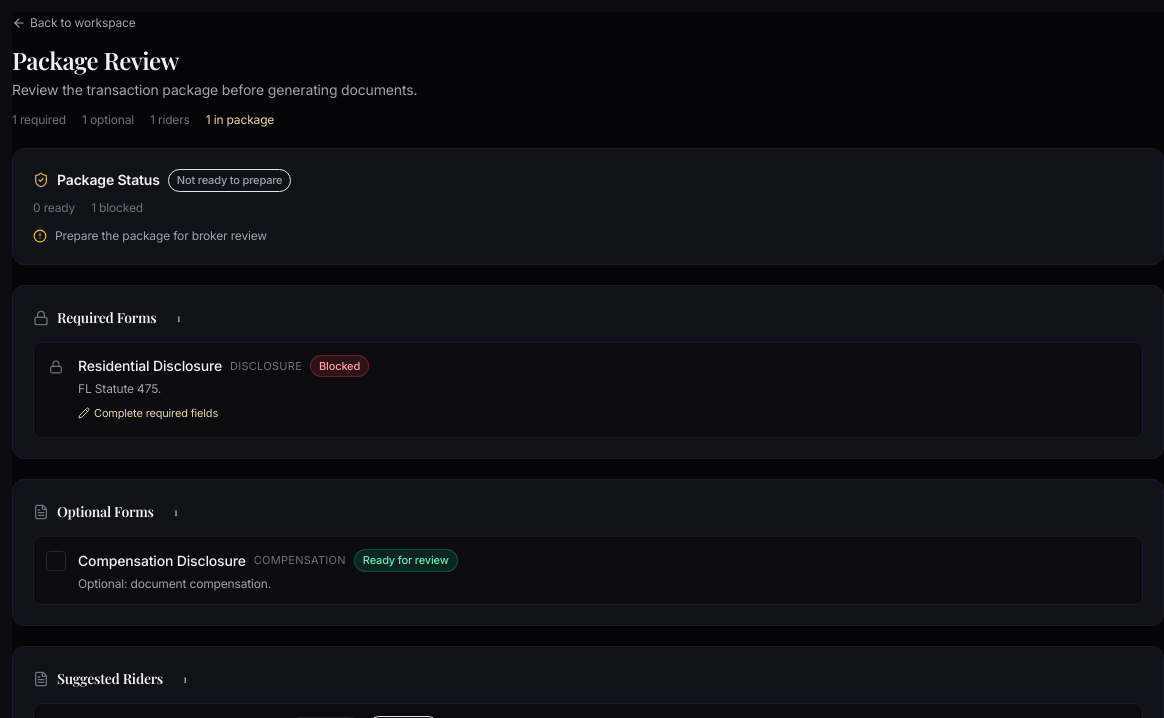
Test case: PackageReview › selecting an optional form updates the in-package count
Expected: the text "1 in package" is shown, 206,112 -> 274,128
Click the checkbox named "Add Compensation Disclosure".
click(56, 561)  # box 46,551 -> 66,571
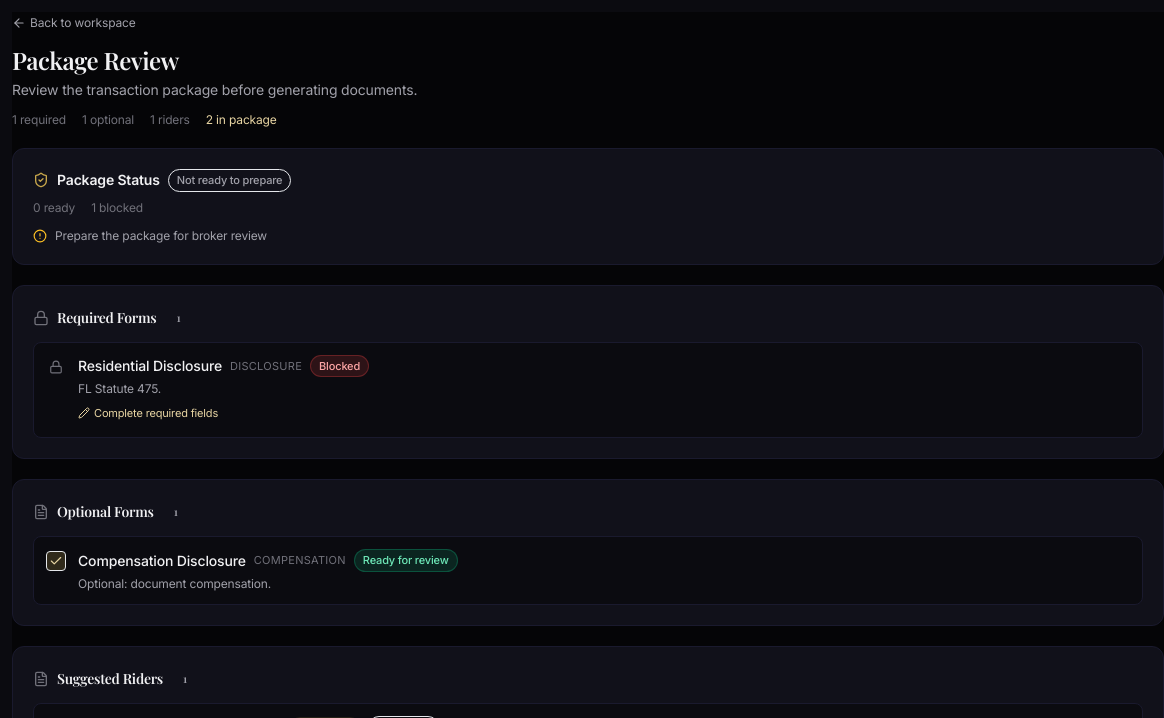
Expected: the text "2 in package" is shown, 206,112 -> 277,128
